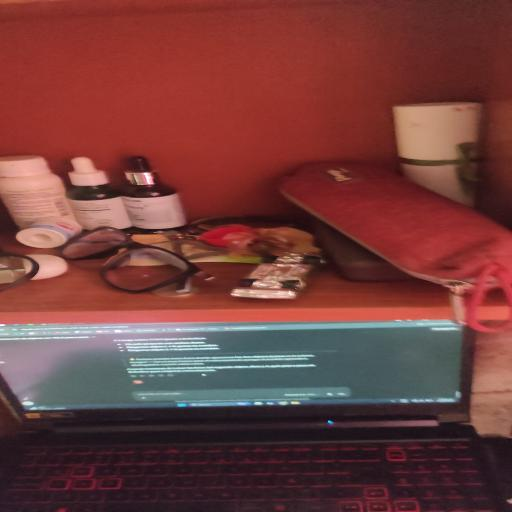Carrito: (231, 253, 321, 299)
